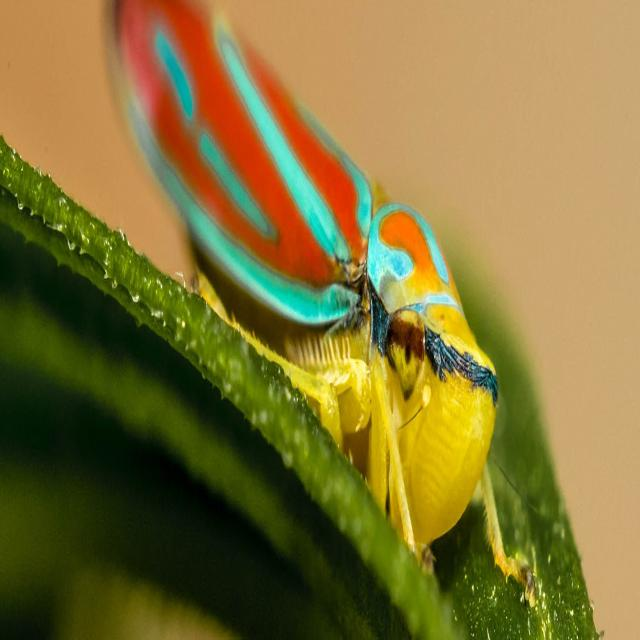Yechan: (100, 0, 508, 555)
